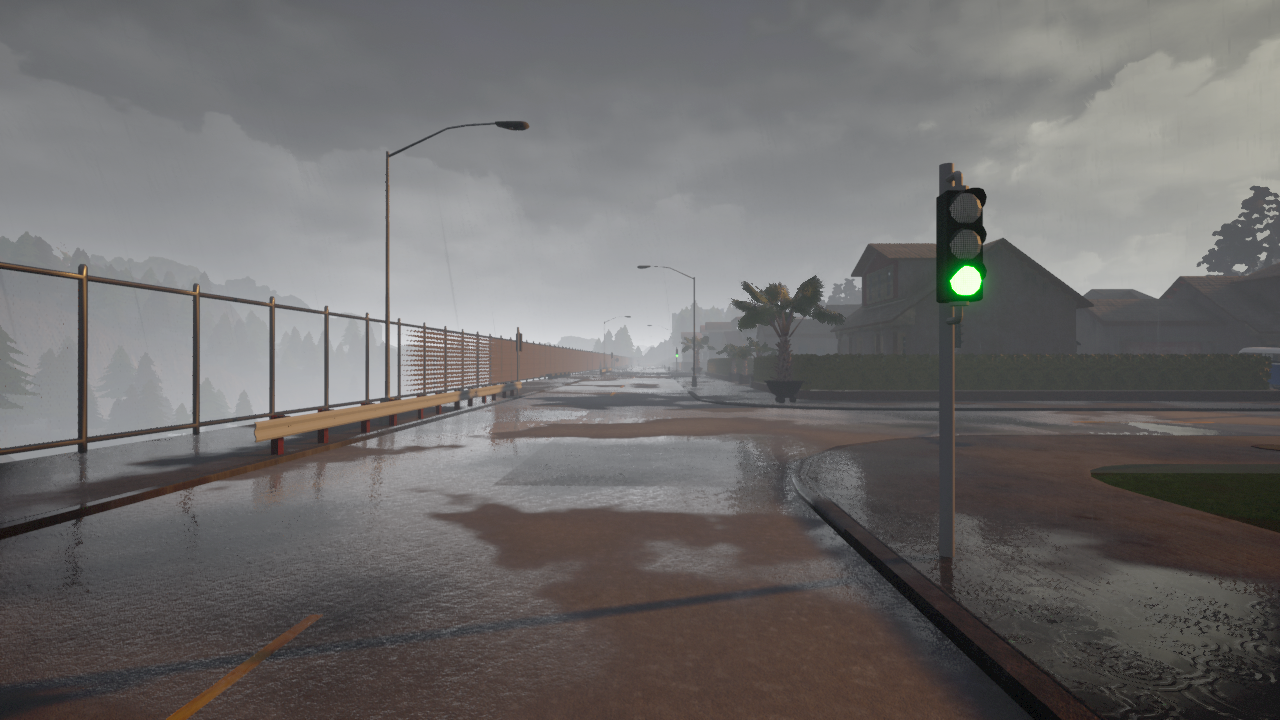green: (935, 191, 990, 311)
